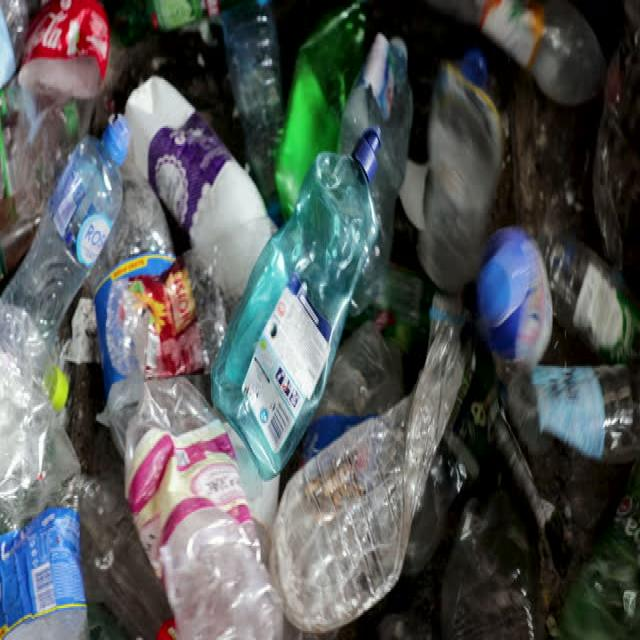plastic: (21, 78, 460, 596)
